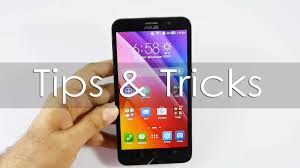asus: (109, 16, 198, 167)
